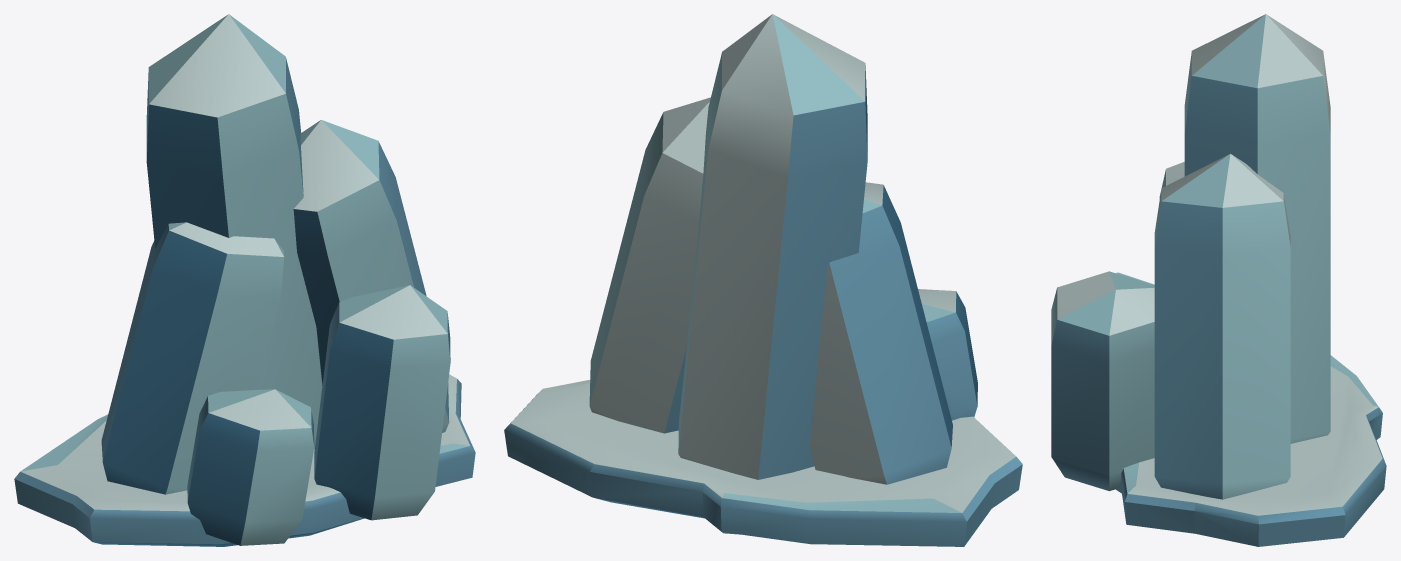
File: fw_ice_crystal_cluster.glb
3 renders of one model, left to right at view 1: azimuth 30°, elevation 25°; view 2: azimuth 150°, elevation 25°; view 3: azimuth 270°, elevation 25°, orthographic. The views are drawn at different scales.
Parts seen in each view (by area): view 1: body; view 2: body; view 3: body.
Boxes of the visible parts, x1,y1,x2,y2 form: body: (14, 14, 475, 546); body: (504, 14, 1022, 546); body: (1051, 14, 1386, 546).
Size of the model in its own units: 1.63 by 1.65 by 1.15.
